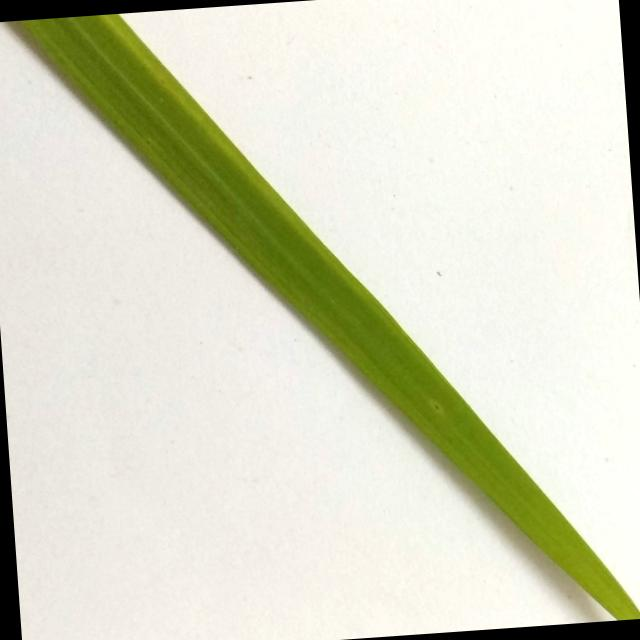Rice_Healthy: (18, 13, 640, 620)
